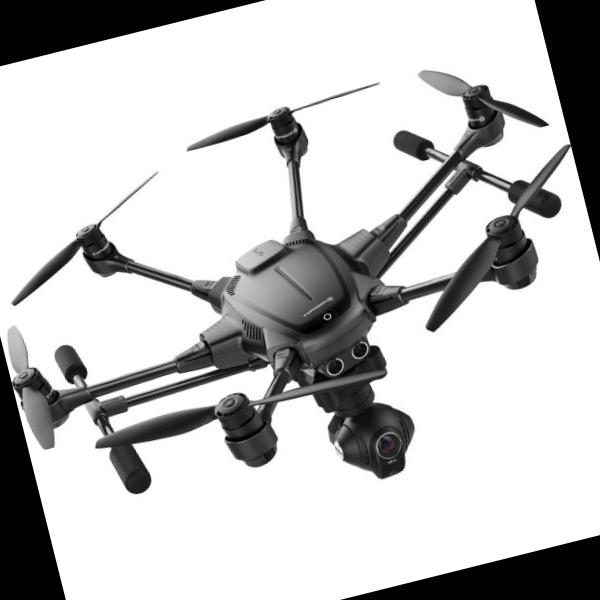drone: (0, 33, 600, 506)
